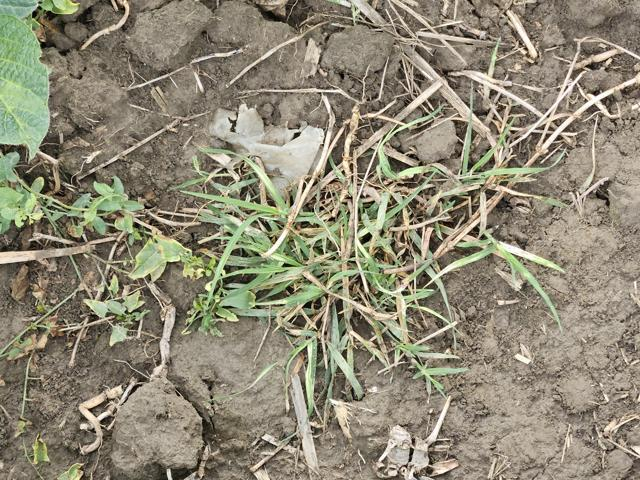bad weed: (222, 92, 537, 384), (0, 169, 185, 342)
